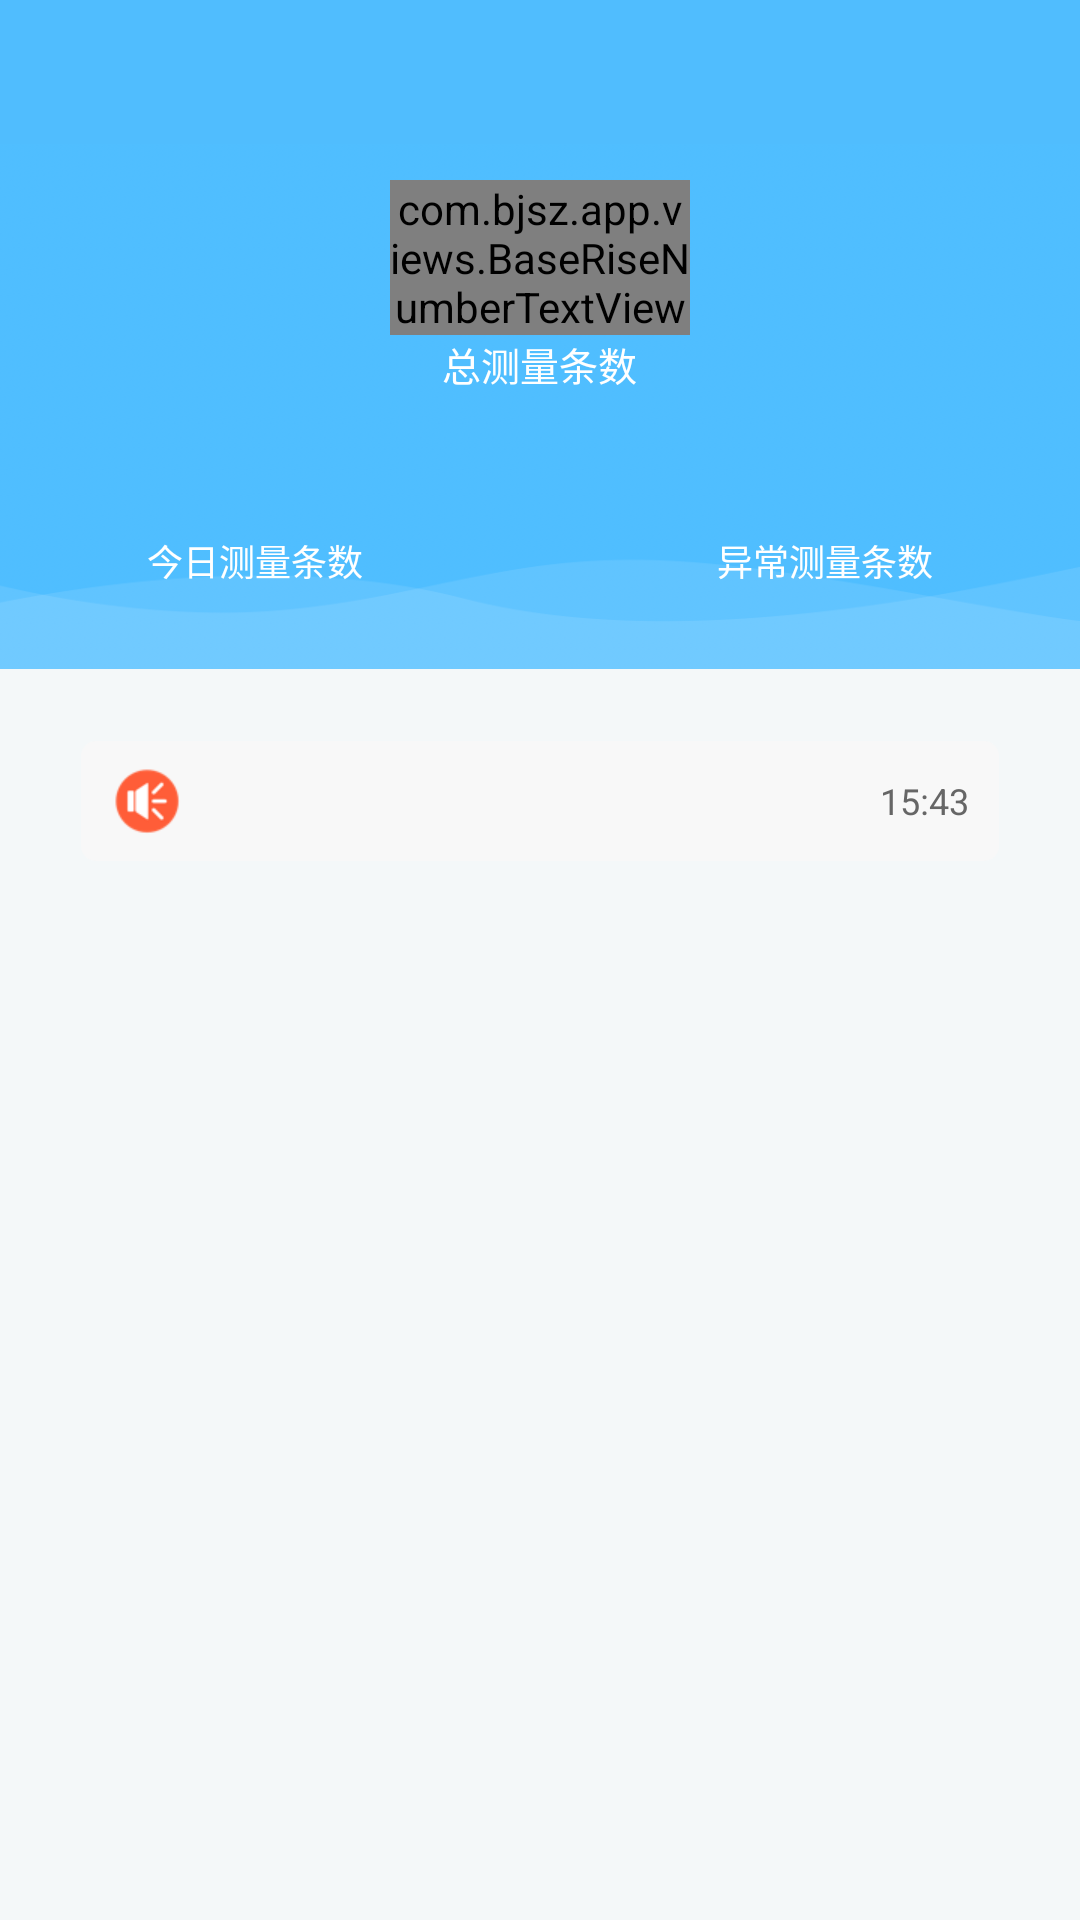

Where to tap for icons on this 1080×1920 app screen, as (x=x, y=y):
home re msg: (x=147, y=801)
